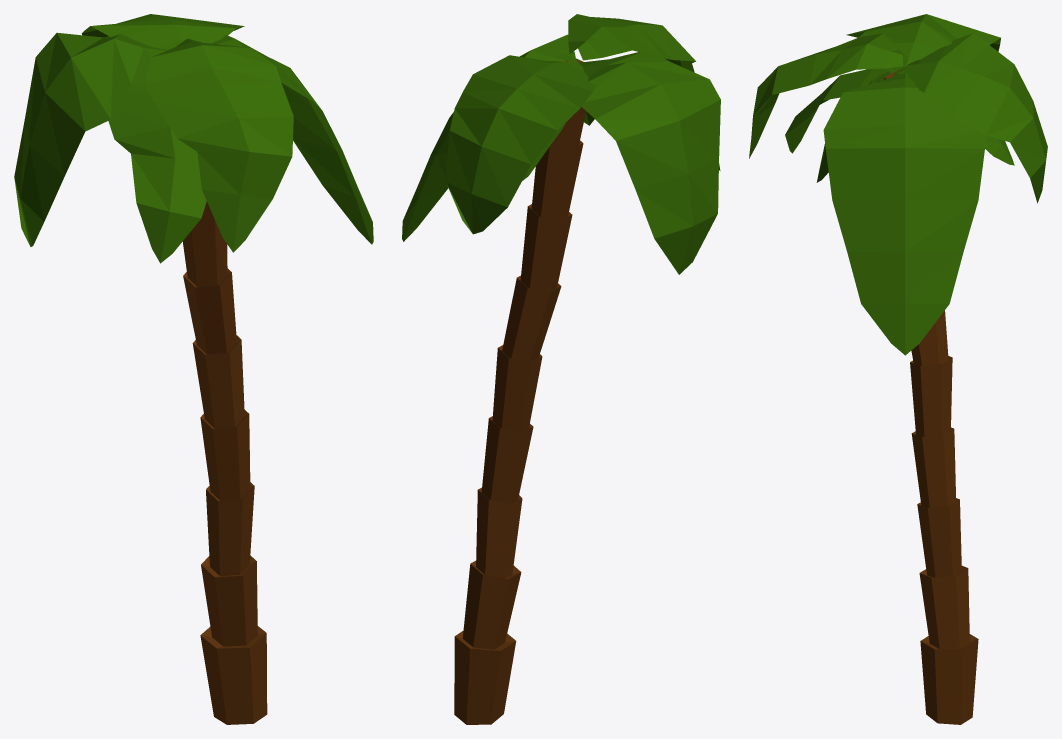
Rendered from Palm_1.obj.
3 views of the same model, side by side, from view 1: azimuth 30°, elevation 25°; view 2: azimuth 150°, elevation 25°; view 3: azimuth 270°, elevation 25° (orthographic). The views are drawn at different scales.
Parts seen in each view (by area): view 1: Plane_Plane.001, Cylinder; view 2: Plane_Plane.001, Cylinder; view 3: Plane_Plane.001, Cylinder.
Part boxes in pixels (x1,y1,x2,y2): Plane_Plane.001: (14,14,373,263); Cylinder: (182,201,267,724); Plane_Plane.001: (402,14,720,274); Cylinder: (454,60,585,724); Plane_Plane.001: (749,14,1047,355); Cylinder: (884,71,978,724).
Bounding box in the file's own units: 3.22 × 6.73 × 2.86.
1 material, 1 textured.
